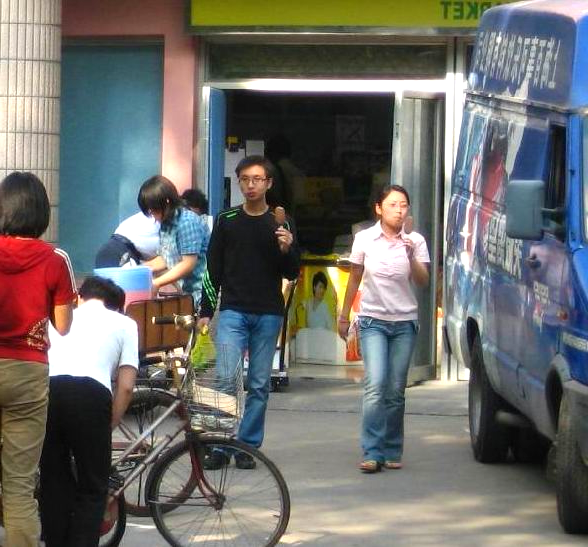pedestrian: (196, 155, 301, 449), (338, 185, 430, 470)
